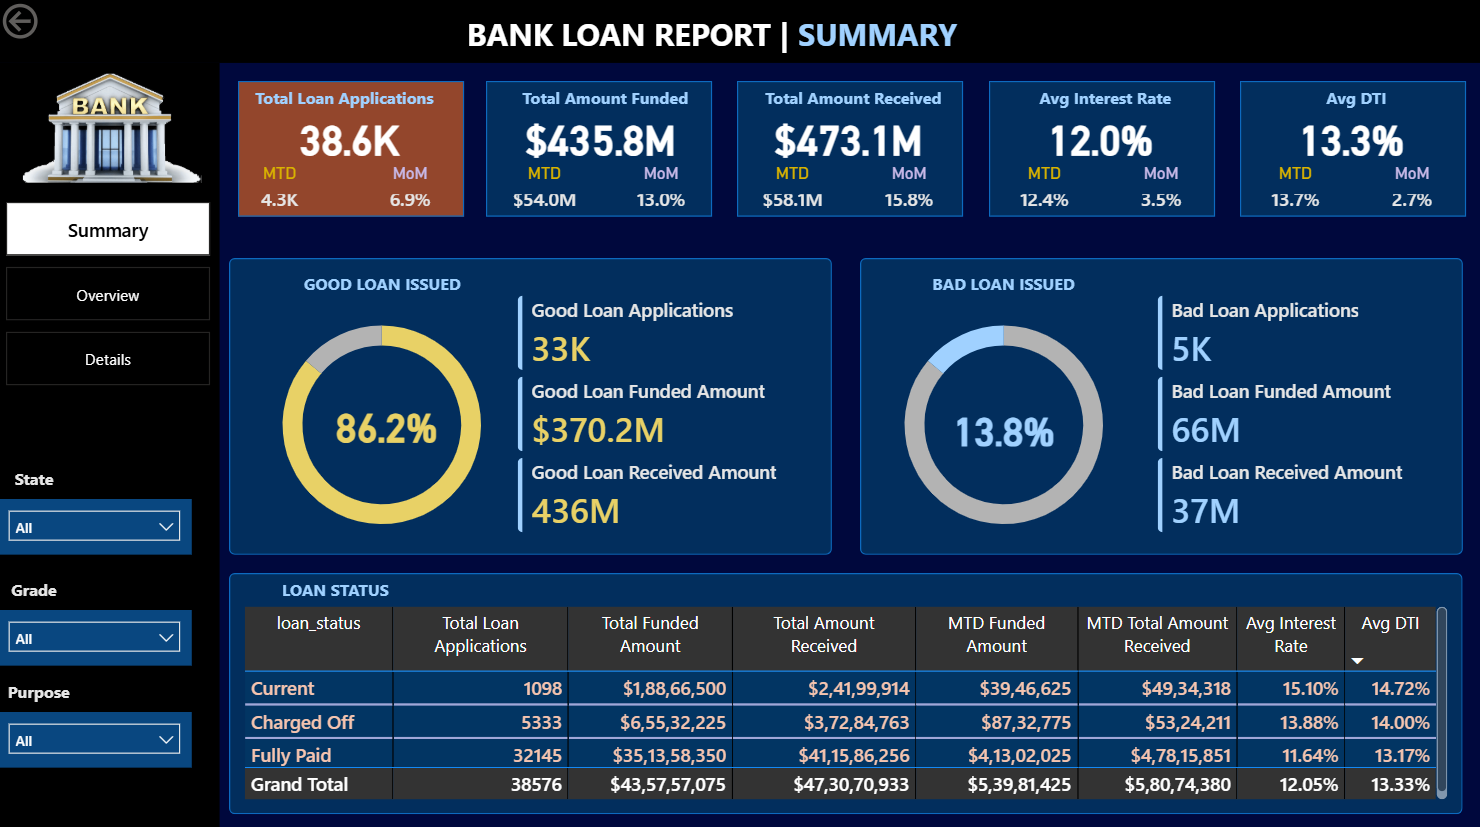

Layout of this report page (visuals, bound fields, positions):
{"tool":"powerbi","page":{"name":"Summary","canvas":[1280,720],"ordinal":0},"visuals":[{"type":"shape","box":[0,56,192,664],"z":0},{"type":"shape","box":[208,72,195,117],"z":0,"group":"g1"},{"type":"shape","box":[638.5,72,195,117],"z":0,"group":"g3"},{"type":"shape","box":[855.2,72,195,117],"z":0,"group":"g4"},{"type":"shape","box":[1072,72,195,117],"z":0,"group":"g5"},{"type":"card","fields":{"Values":["Date Table.Total Funded Amount"]},"box":[424,96,192,48],"z":0,"group":"g2"},{"type":"textbox","box":[440,72,168,32],"z":1000,"group":"g2"},{"type":"card","fields":{"Values":["Finance_loan.Total Loan Applications"]},"box":[208,96,192,48],"z":1000,"group":"g1"},{"type":"card","fields":{"Values":["Finance_loan.Total Amount Received"]},"box":[638.5,96,192,48],"z":1000,"group":"g3"},{"type":"card","fields":{"Values":["Date Table.Average Interest Rate"]},"box":[855.2,96,192,48],"z":1000,"group":"g4"},{"type":"card","fields":{"Values":["Date Table.Avg DTI"]},"box":[1072,96,192,48],"z":1000,"group":"g5"},{"type":"shape","box":[200,224,520,256],"z":1000},{"type":"shape","box":[0,0,1280,56],"z":2000},{"type":"textbox","box":[216,72,168,32],"z":2000,"group":"g1"},{"type":"textbox","box":[654.5,72,168,32],"z":2000,"group":"g3"},{"type":"textbox","box":[871.2,72,168,32],"z":2000,"group":"g4"},{"type":"textbox","box":[1088,72,168,32],"z":2000,"group":"g5"},{"type":"card","title":"MTD","fields":{"Values":["Date Table.MTD Funded Amount"]},"box":[432,144,80,40],"z":2000,"group":"g2"},{"type":"shape","box":[421.8,72,195,117],"z":3000},{"type":"card","title":"MTD","fields":{"Values":["Date Table.MTD Loan Application"]},"box":[216,144,56,40],"z":3000,"group":"g1"},{"type":"card","title":"MoM","fields":{"Values":["Date Table.MoM Total Amount Funded"]},"box":[528,144,88,40],"z":3000,"group":"g2"},{"type":"card","title":"MTD","fields":{"Values":["Date Table.MTD Total Amount Received"]},"box":[646.5,144,80,40],"z":3000,"group":"g3"},{"type":"card","title":"MTD","fields":{"Values":["Date Table.MTD Average Interest Rate"]},"box":[863.2,144,80,40],"z":3000,"group":"g4"},{"type":"card","title":"MTD","fields":{"Values":["Date Table.MTD Average DTI"]},"box":[1080,144,80,40],"z":3000,"group":"g5"},{"type":"card","title":"MoM","fields":{"Values":["Date Table.MoM Loan Application"]},"box":[312,144,88,40],"z":4000,"group":"g1"},{"type":"card","title":"MoM","fields":{"Values":["Date Table.MoM Total Amount Received"]},"box":[742.5,144,88,40],"z":4000,"group":"g3"},{"type":"card","title":"MoM","fields":{"Values":["Date Table.MoM Average Interest Rate"]},"box":[959.2,144,88,40],"z":4000,"group":"g4"},{"type":"card","title":"MoM","fields":{"Values":["Date Table.MoM Average DTI"]},"box":[1176,144,88,40],"z":4000,"group":"g5"},{"type":"textbox","box":[248,232,168,32],"z":4000},{"type":"card","fields":{"Values":["Date Table.Good Loan %"]},"box":[240,344,192,48],"z":5000},{"type":"textbox","box":[400,8,448,48],"z":6000},{"type":"group","id":"g1","title":"Group 1","box":[208,72,192,120],"z":7000},{"type":"group","id":"g2","title":"Group 2","box":[424,72,192,112],"z":8000},{"type":"group","id":"g3","title":"Group 3","box":[638.5,72,195,117],"z":9000},{"type":"group","id":"g4","title":"Group 4","box":[855.2,72,195,117],"z":10000},{"type":"group","id":"g5","title":"Group 4","box":[1072,72,192,120],"z":11000},{"type":"shape","box":[744,224,520,256],"z":12000},{"type":"donutChart","fields":{"Category":["Finance_loan.Good vs Bad Loan"],"Y":["Finance_loan.Total Loan Applications"]},"box":[208,256,248,224],"z":13000},{"type":"cardVisual","fields":{"Data":["Date Table.Good Loan Applications","Date Table.Good Loan Funded Amount","Date Table.Good Loan Received Amount"]},"box":[432,240,280,240],"z":14000},{"type":"donutChart","fields":{"Category":["Finance_loan.Good vs Bad Loan"],"Y":["Finance_loan.Total Loan Applications"]},"box":[744,256,248,224],"z":15000},{"type":"textbox","box":[776,232,184,32],"z":16000},{"type":"card","fields":{"Values":["Date Table.Good Bad %"]},"box":[776,352,184,40],"z":17000},{"type":"shape","box":[200,496,1064,208],"z":18000},{"type":"cardVisual","fields":{"Data":["Date Table.Bad Loan Applications","Date Table.Bad Loan Funded Amount","Date Table.Bad Loan Received Amount"]},"box":[984,240,280,240],"z":19000},{"type":"tableEx","fields":{"Values":["Finance_loan.loan_status","Finance_loan.Total Loan Applications","Date Table.Total Funded Amount","Finance_loan.Total Amount Received","Date Table.MTD Funded Amount","Date Table.MTD Total Amount Received","Date Table.Average Interest Rate","Date Table.Avg DTI"]},"box":[208,520,1048,176],"z":20000},{"type":"actionButton","box":[0,0,100,40],"z":21000},{"type":"textbox","box":[208,496,168,32],"z":22000},{"type":"slicer","fields":{"Values":["Finance_loan.address_state"]},"box":[0,432,168,48],"z":23000},{"type":"textbox","box":[0,400,64,32],"z":24000},{"type":"slicer","fields":{"Values":["Finance_loan.grade"]},"box":[0,528,168,48],"z":25000},{"type":"textbox","box":[0,496,64,32],"z":26000},{"type":"slicer","fields":{"Values":["Finance_loan.purpose"]},"box":[0,616,168,48],"z":27000},{"type":"textbox","box":[0,584,72,32],"z":28000},{"type":"image","box":[16,48,160,128],"z":29000},{"type":"pageNavigator","box":[8,176,176,160],"z":30000}]}

Visuals, with their boxes on the page's 1280x720 design canvas (x1, y1, x2, y2). These are canvas units, not pixel positions in the 1480x827 screenshot, which may show the page scaled, cropped or inside an application window:
shape: <box>0,56,192,720</box>
shape: <box>208,72,403,189</box>
shape: <box>638,72,834,189</box>
shape: <box>855,72,1050,189</box>
shape: <box>1072,72,1267,189</box>
card - Date Table.Total Funded Amount: <box>424,96,616,144</box>
textbox: <box>440,72,608,104</box>
card - Finance_loan.Total Loan Applications: <box>208,96,400,144</box>
card - Finance_loan.Total Amount Received: <box>638,96,830,144</box>
card - Date Table.Average Interest Rate: <box>855,96,1047,144</box>
card - Date Table.Avg DTI: <box>1072,96,1264,144</box>
shape: <box>200,224,720,480</box>
shape: <box>0,0,1280,56</box>
textbox: <box>216,72,384,104</box>
textbox: <box>654,72,822,104</box>
textbox: <box>871,72,1039,104</box>
textbox: <box>1088,72,1256,104</box>
"MTD" card: <box>432,144,512,184</box>
shape: <box>422,72,617,189</box>
"MTD" card: <box>216,144,272,184</box>
"MoM" card: <box>528,144,616,184</box>
"MTD" card: <box>646,144,726,184</box>
"MTD" card: <box>863,144,943,184</box>
"MTD" card: <box>1080,144,1160,184</box>
"MoM" card: <box>312,144,400,184</box>
"MoM" card: <box>742,144,830,184</box>
"MoM" card: <box>959,144,1047,184</box>
"MoM" card: <box>1176,144,1264,184</box>
textbox: <box>248,232,416,264</box>
card - Date Table.Good Loan %: <box>240,344,432,392</box>
textbox: <box>400,8,848,56</box>
"Group 1" group: <box>208,72,400,192</box>
"Group 2" group: <box>424,72,616,184</box>
"Group 3" group: <box>638,72,834,189</box>
"Group 4" group: <box>855,72,1050,189</box>
"Group 4" group: <box>1072,72,1264,192</box>
shape: <box>744,224,1264,480</box>
donutChart - Finance_loan.Good vs Bad Loan x Finance_loan.Total Loan Applications: <box>208,256,456,480</box>
cardVisual - Date Table.Good Loan Applications x Date Table.Good Loan Funded Amount: <box>432,240,712,480</box>
donutChart - Finance_loan.Good vs Bad Loan x Finance_loan.Total Loan Applications: <box>744,256,992,480</box>
textbox: <box>776,232,960,264</box>
card - Date Table.Good Bad %: <box>776,352,960,392</box>
shape: <box>200,496,1264,704</box>
cardVisual - Date Table.Bad Loan Applications x Date Table.Bad Loan Funded Amount: <box>984,240,1264,480</box>
tableEx - Finance_loan.loan_status x Finance_loan.Total Loan Applications: <box>208,520,1256,696</box>
actionButton: <box>0,0,100,40</box>
textbox: <box>208,496,376,528</box>
slicer - Finance_loan.address_state: <box>0,432,168,480</box>
textbox: <box>0,400,64,432</box>
slicer - Finance_loan.grade: <box>0,528,168,576</box>
textbox: <box>0,496,64,528</box>
slicer - Finance_loan.purpose: <box>0,616,168,664</box>
textbox: <box>0,584,72,616</box>
image: <box>16,48,176,176</box>
pageNavigator: <box>8,176,184,336</box>
